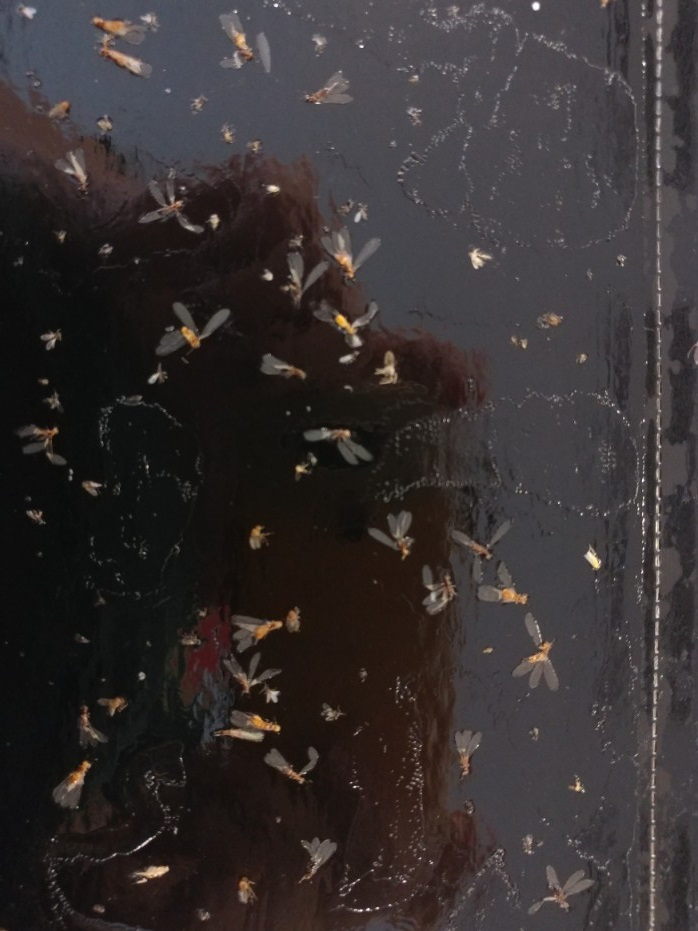flying termite: (300, 416, 384, 478), (91, 41, 152, 85), (230, 610, 288, 653)
